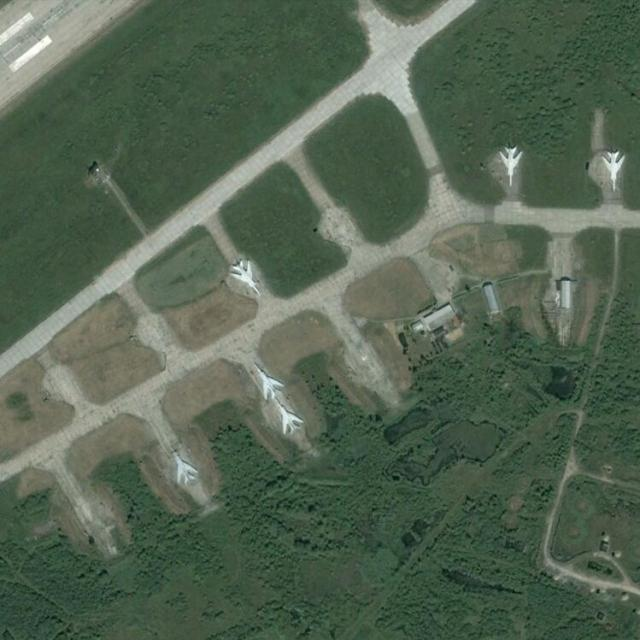fighter jet: (227, 256, 273, 296), (250, 360, 285, 398), (599, 146, 626, 192), (273, 401, 305, 436), (496, 145, 524, 184), (169, 452, 198, 486)
